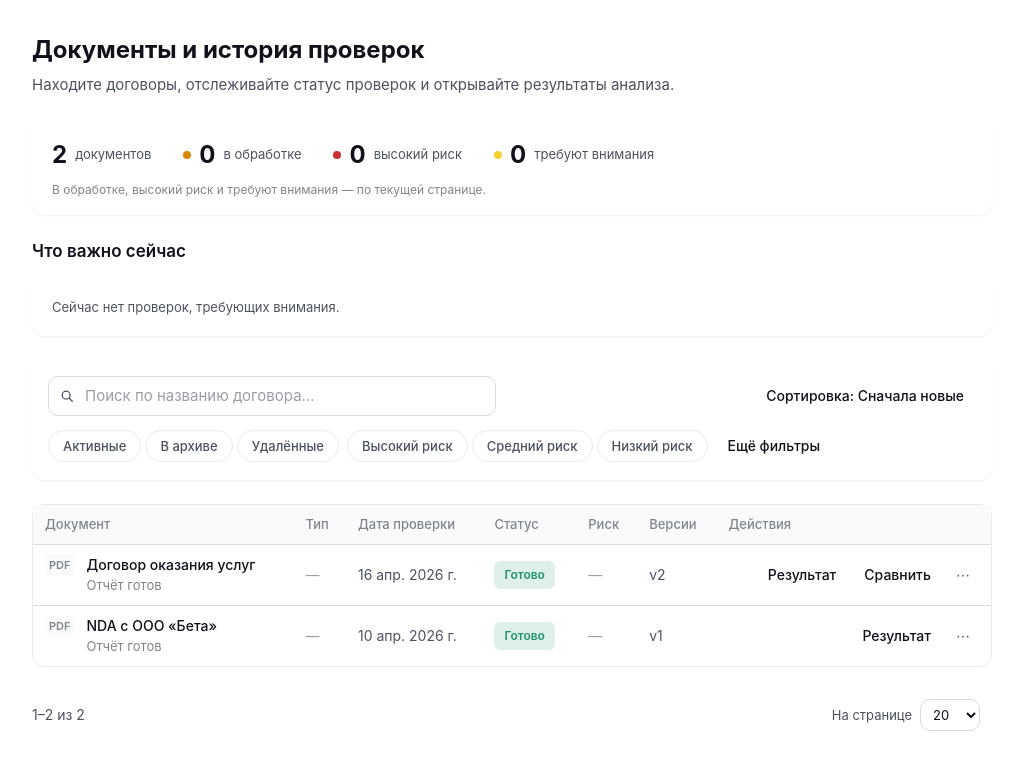
Test: ContractsListPage › RBAC Pattern B — LAWYER: ⋯-меню содержит архивацию/удаление
Click the button with test id "row-more-c1".
click(963, 575)  # box top-left (947, 559), bottom-right (979, 591)
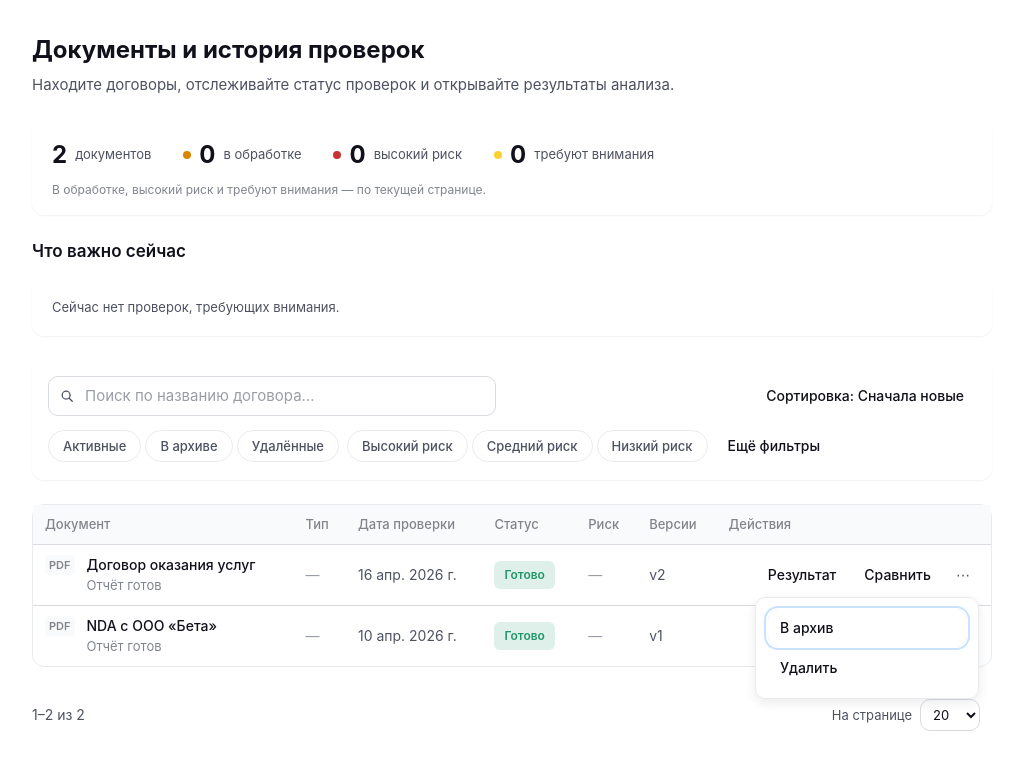
Result: the button with test id "row-archive-c1" is shown at top-left (768, 610), bottom-right (966, 646)
Result: the button with test id "row-delete-c1" is shown at top-left (768, 650), bottom-right (966, 686)
